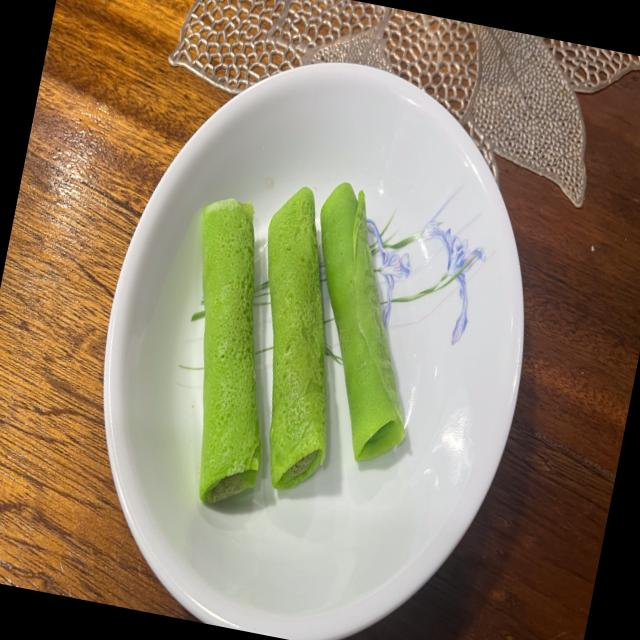Kuih-Ketayap: (320, 182, 405, 461), (199, 198, 262, 503), (267, 188, 326, 490)
